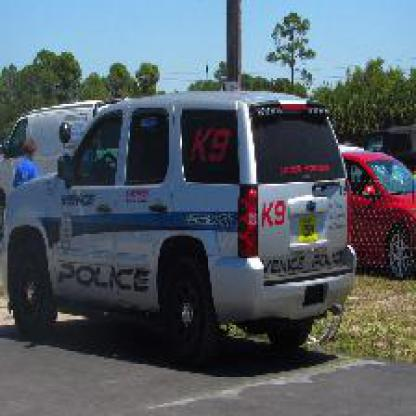emergency: (4, 86, 384, 375)
